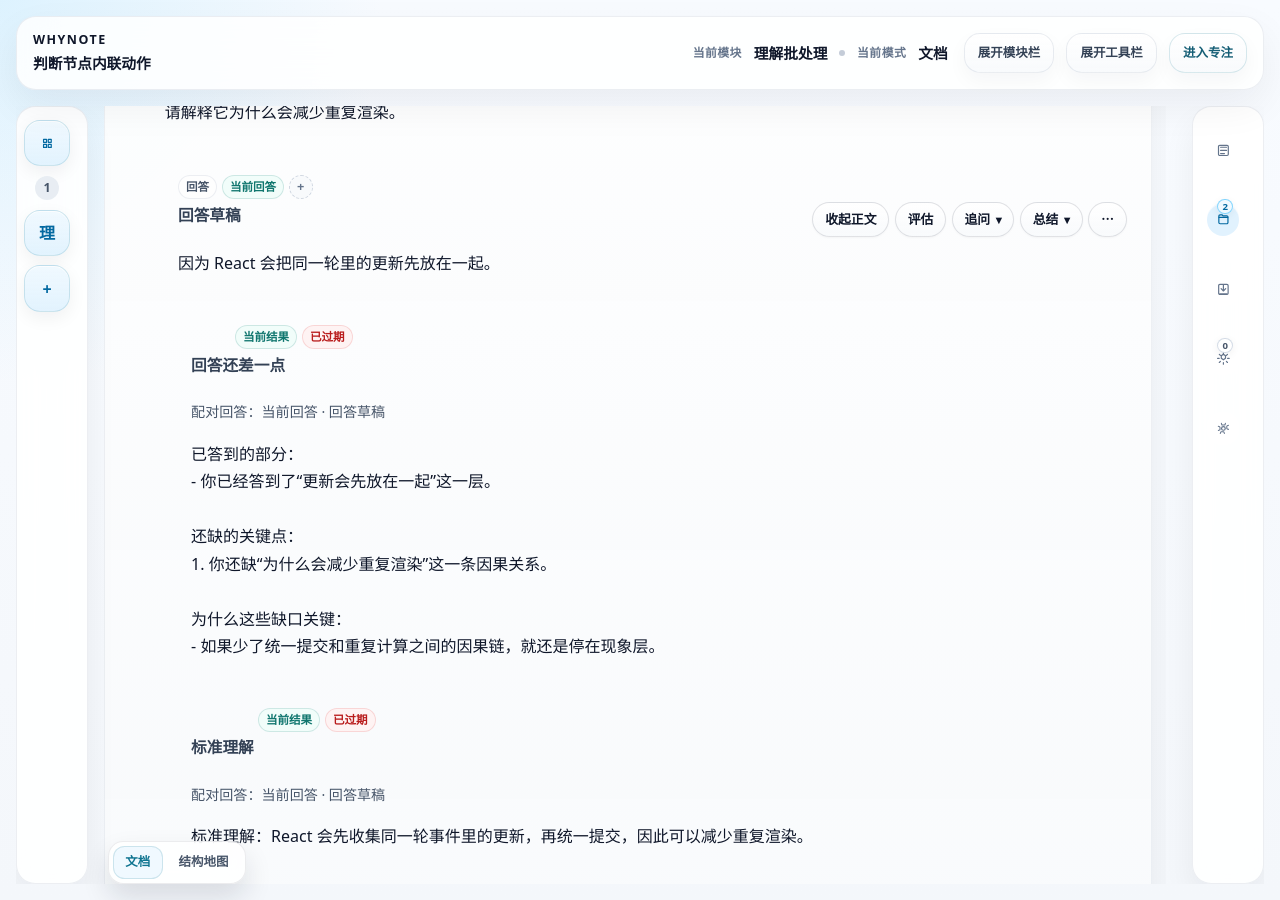
Test: renders inline judgment actions and generates a hint that stays distinct from the explanation while exposing hint citations
The width and height of the screenshot is (1280, 900).
(page scrolled)
Click the element with test id "editor-node-judgment-inline-primary".
click(169, 325)  # box x1=129 y1=310 x2=1127 y2=679
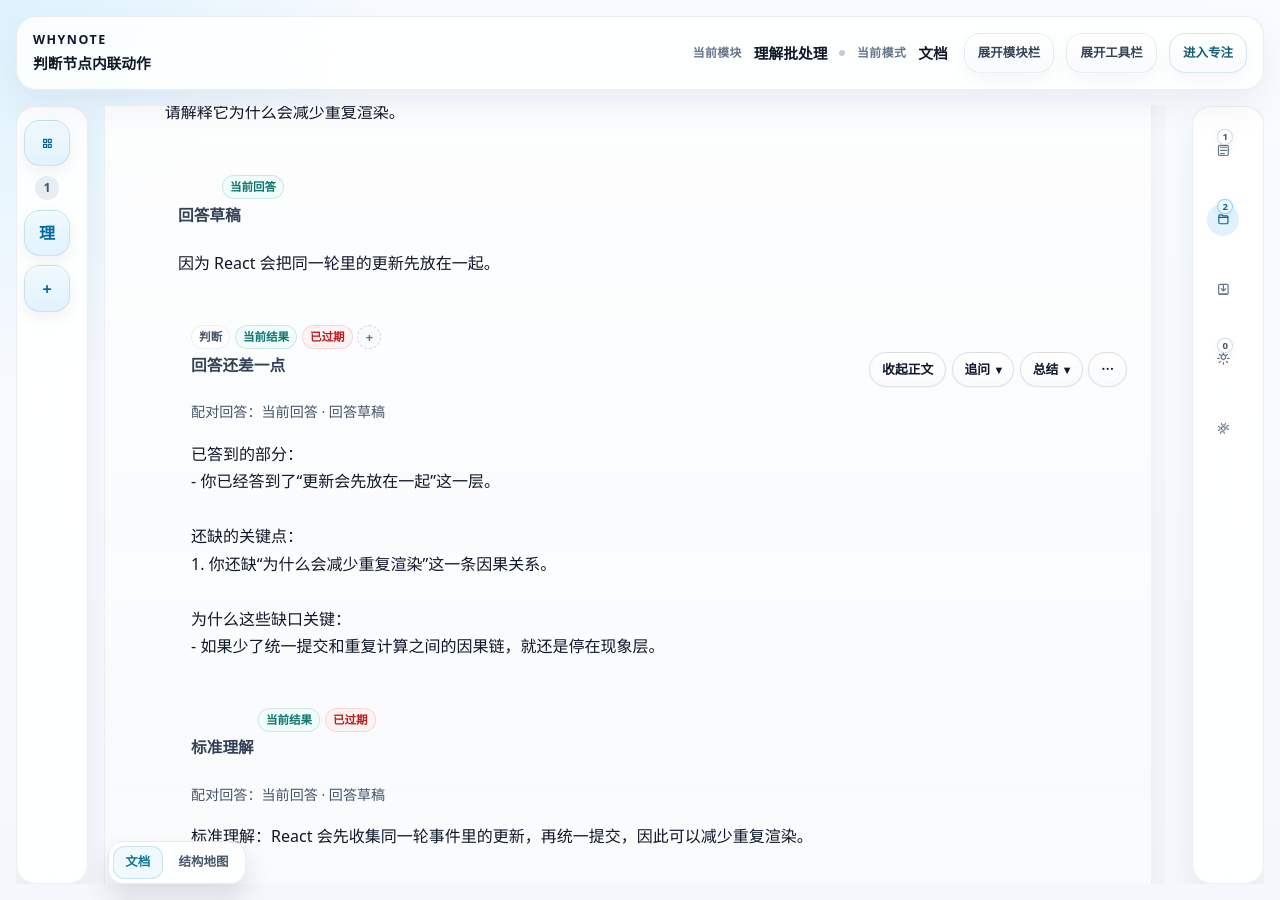
Expected: the button "给我提示" is not shown
Click the button "⋯".
click(1107, 370)  # box x1=1088 y1=352 x2=1127 y2=387
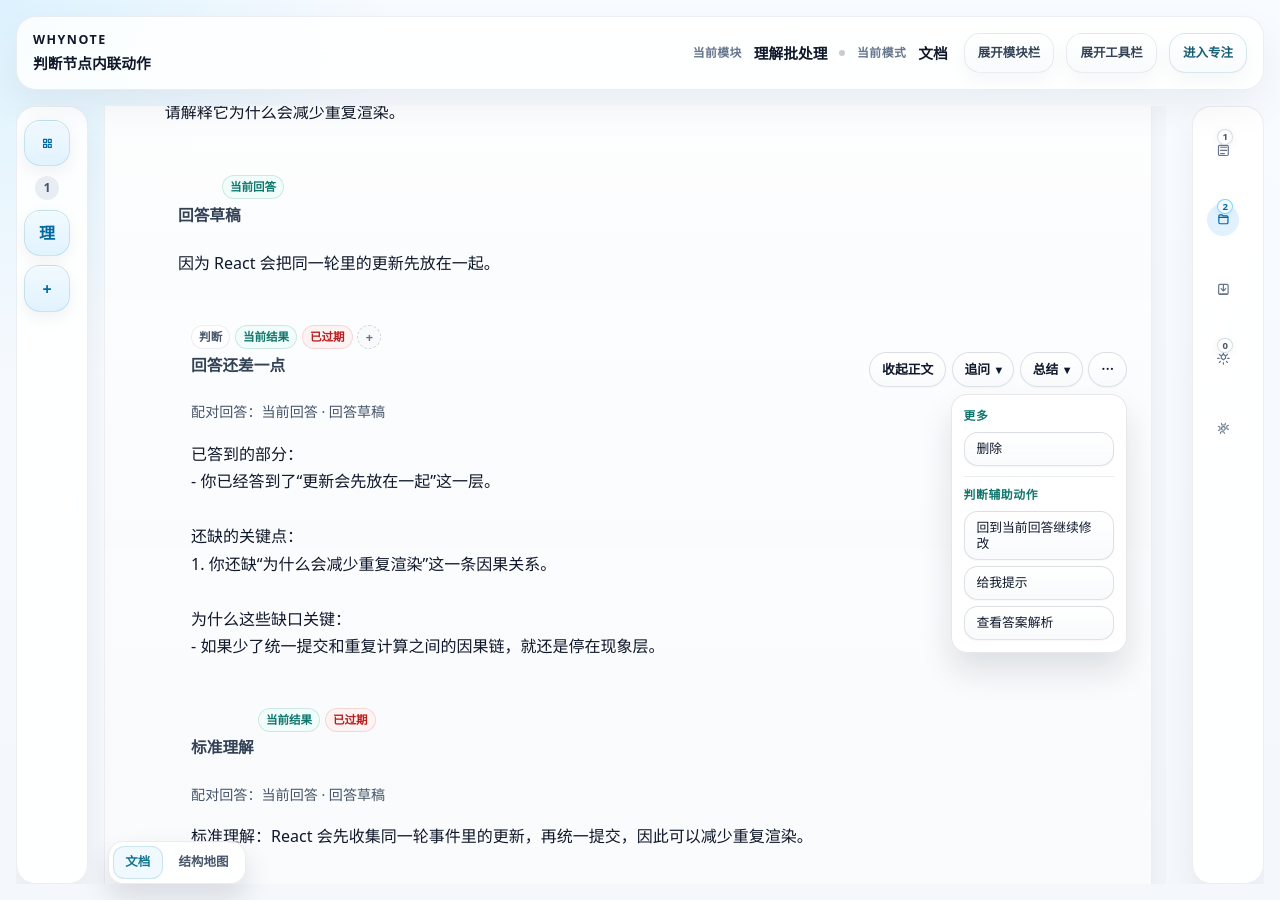
Click the button "给我提示".
click(1039, 583)  # box x1=964 y1=566 x2=1114 y2=600
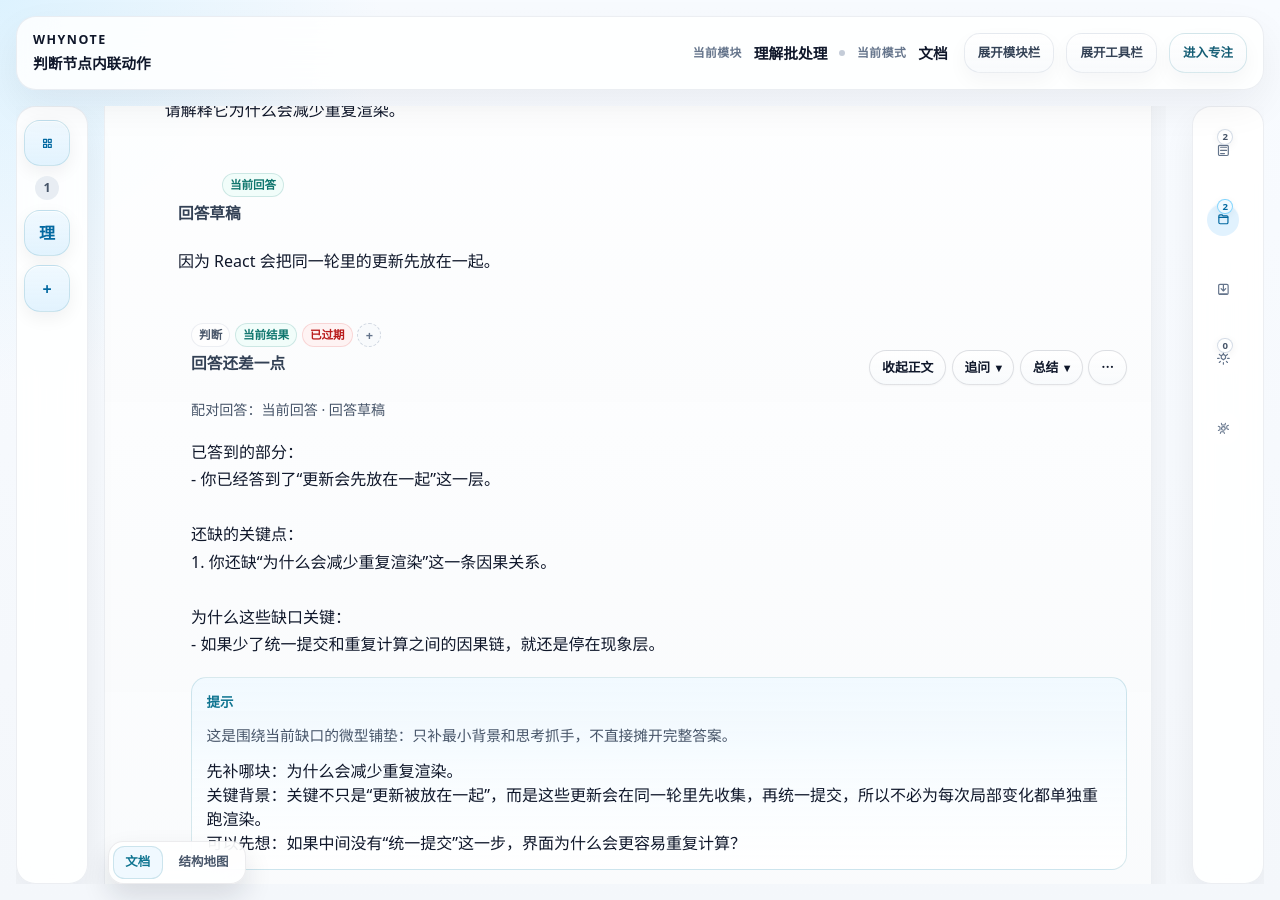
Result: the element with test id "judgment-inline-hint-judgment-inline-primary" shows "微型铺垫" at x1=206 y1=725 x2=736 y2=745
Result: the element with test id "judgment-inline-hint-judgment-inline-primary" shows "先补哪块：为什么会减少重复渲染" at x1=206 y1=760 x2=1098 y2=854
Result: the element with test id "judgment-inline-hint-judgment-inline-primary" shows "关键背景：" at x1=206 y1=760 x2=1098 y2=854
